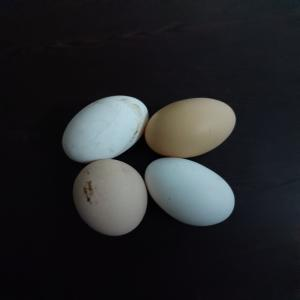Egg: (58, 85, 150, 165), (136, 156, 236, 224), (74, 156, 150, 242), (148, 92, 240, 160)
